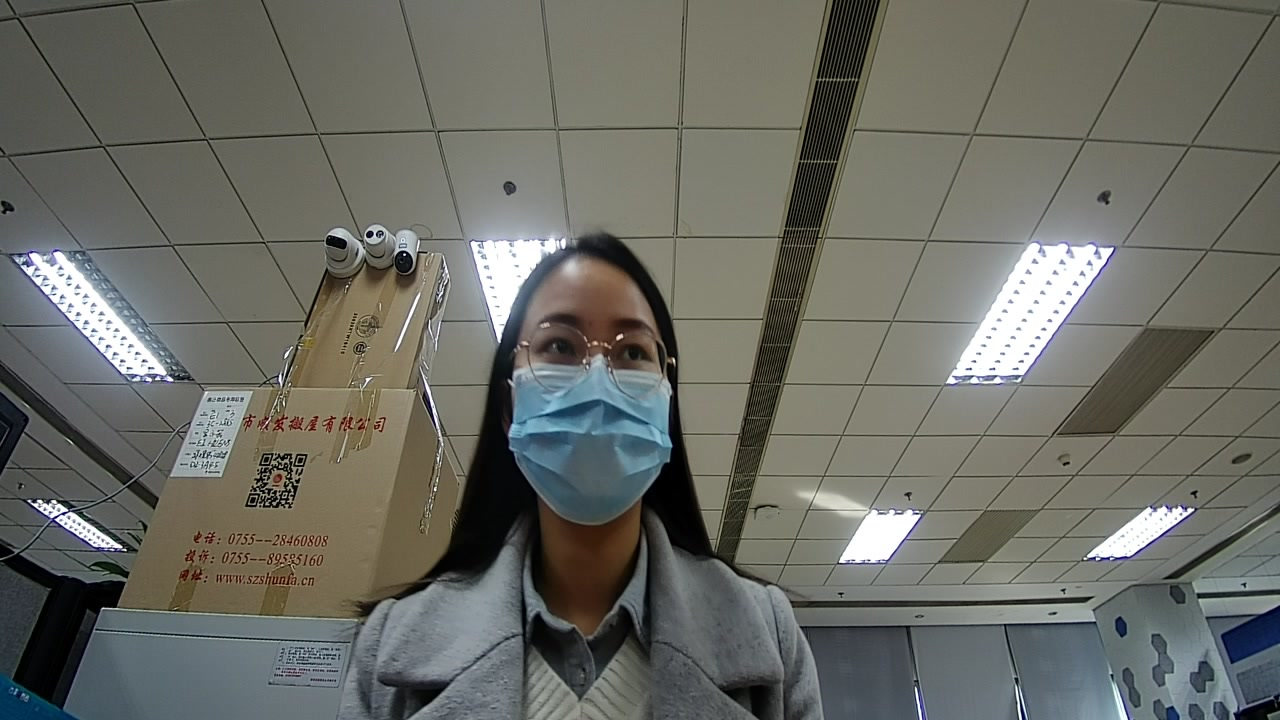face: (495, 249, 684, 509)
mask: (511, 369, 683, 512)
person: (362, 179, 828, 719)
